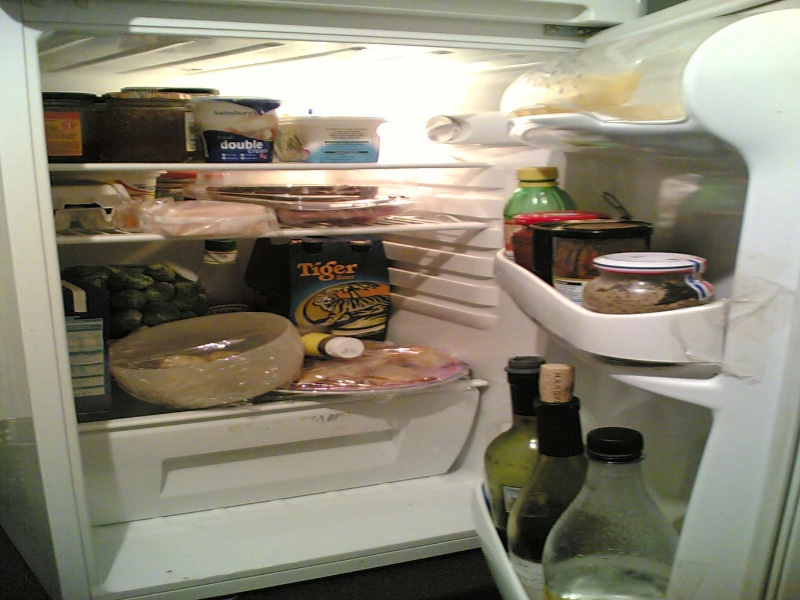refrigerator: (2, 5, 796, 600)
